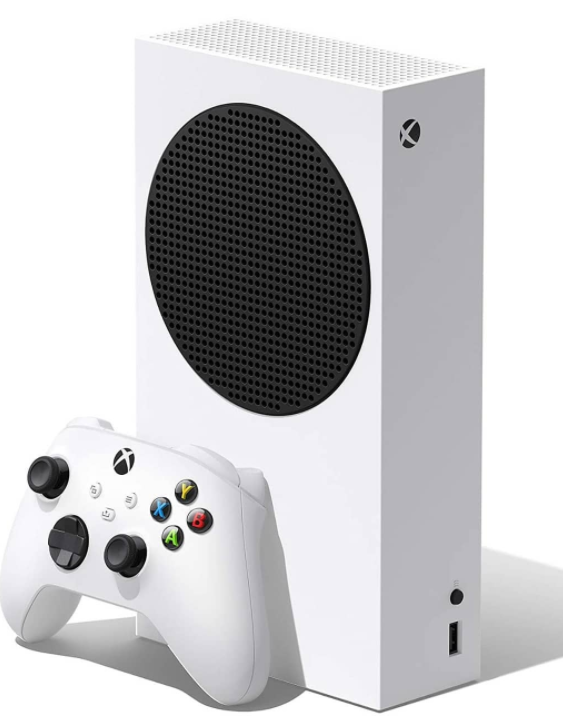gamingconsole: (3, 416, 274, 704)
